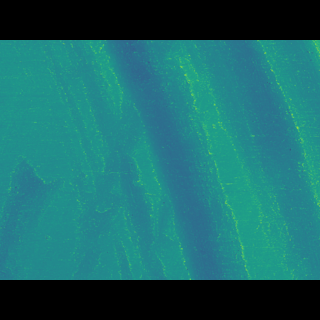Loch: (74, 70, 320, 250)
